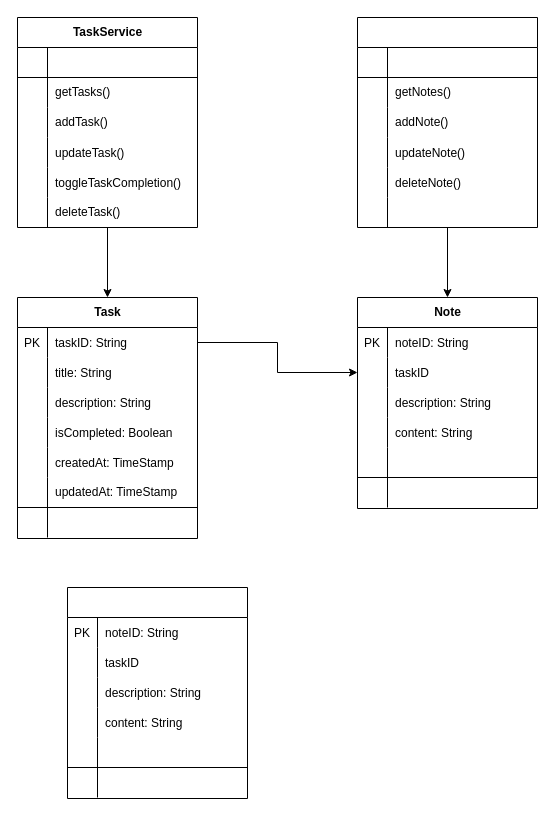
Image size: 555x816. Some labels were removed from this diagram. Each missing label, with the box of its shape:
Category: (66, 586, 248, 798)
NoteServices: (356, 16, 538, 228)
